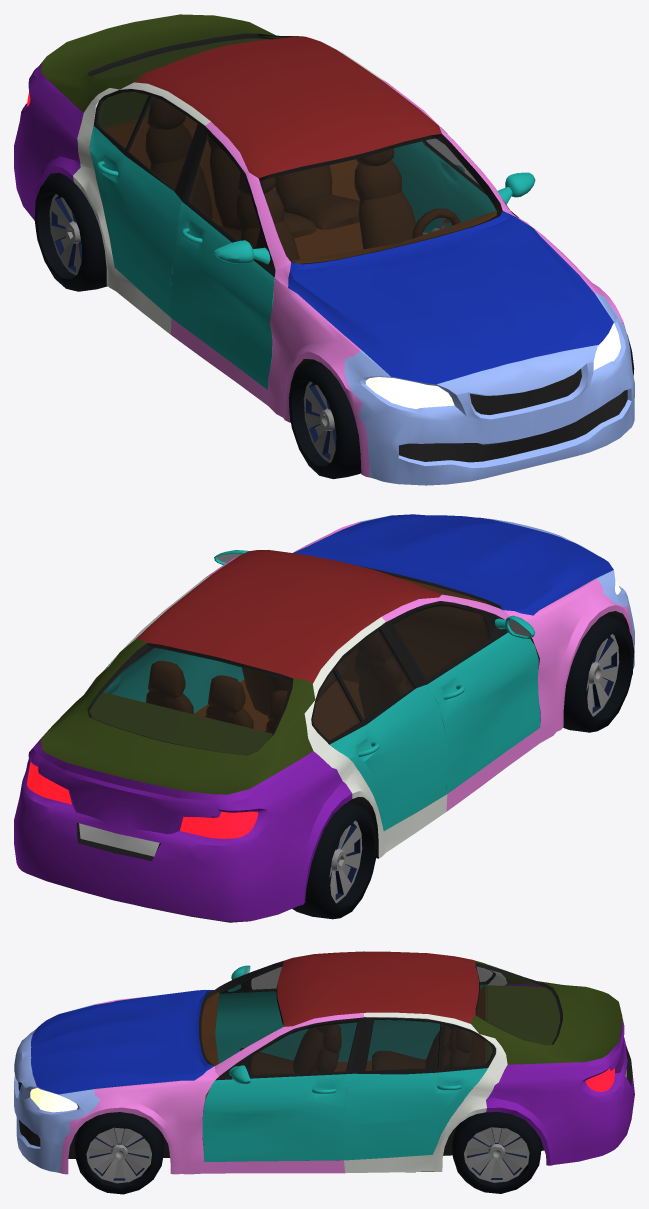
Rendered from myWholeCar4.fbx.
3 views of the same model, one above another, from view 1: azimuth 30°, elevation 25°; view 2: azimuth 150°, elevation 25°; view 3: azimuth 270°, elevation 25° (orthographic). The views are drawn at different scales.
Parts seen in each view (by area): view 1: car frame, Front Door.008, Back door.008, BackSeat.001, FrontSeat, NewTire, NewTire.001, Back door Window.003, Front Door Window.003, Back door, Front Door, Rearview Mirror.001 (+1 smaller); view 2: car frame, Front Door.008, Back door.008, NewTire.001, NewTire, Back door Window.003, FrontSeat, Front Door Window.003, BackSeat.001, Front Door, Back door, Rearview Mirror.001; view 3: car frame, Front Door, Back door, NewTire, NewTire.001, Back door Window.003, Front Door Window.003, Front Door.008, FrontSeat, Back door.008, BackSeat.001, Rearview Mirror.001.
Boxes of the visible parts, x1,y1,x2,y2 form: car frame: (14, 14, 634, 485); Front Door.008: (171, 126, 275, 389); Back door.008: (89, 89, 204, 317); BackSeat.001: (146, 97, 359, 240); FrontSeat: (236, 149, 415, 260); NewTire: (288, 334, 634, 479); NewTire.001: (34, 174, 107, 291); Back door Window.003: (99, 92, 197, 189); Front Door Window.003: (190, 135, 486, 248); Back door: (391, 141, 445, 232); Front Door: (423, 127, 519, 227); Rearview Mirror.001: (214, 172, 535, 264); car frame: (14, 514, 634, 922); Front Door.008: (386, 601, 540, 793); Back door.008: (311, 622, 447, 830); NewTire.001: (292, 801, 377, 919); NewTire: (563, 614, 634, 732); Back door Window.003: (128, 630, 413, 739); FrontSeat: (242, 631, 413, 718); Front Door Window.003: (393, 605, 489, 678); BackSeat.001: (146, 660, 287, 733); Front Door: (176, 652, 244, 713); Back door: (103, 647, 177, 702); Rearview Mirror.001: (214, 550, 535, 638); car frame: (14, 951, 634, 1174); Front Door: (202, 1017, 364, 1161); Back door: (343, 1017, 495, 1160); NewTire: (74, 1112, 164, 1194); NewTire.001: (452, 1112, 541, 1193); Back door Window.003: (365, 967, 492, 1070); Front Door Window.003: (251, 967, 357, 1074); Front Door.008: (215, 979, 344, 1062); FrontSeat: (251, 1024, 341, 1074); Back door.008: (343, 969, 495, 1061); BackSeat.001: (372, 1025, 473, 1070); Rearview Mirror.001: (228, 965, 250, 1083).
Bounding box in the file's own units: 140 × 96.53 × 322.
